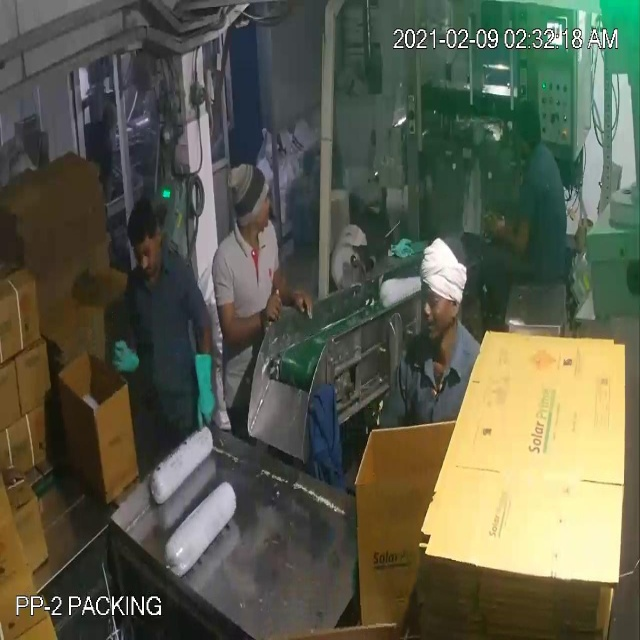Guantes: (183, 330, 224, 444), (96, 322, 143, 383)
Sin_guantes: (217, 292, 288, 349), (264, 259, 320, 325), (481, 206, 533, 275)
